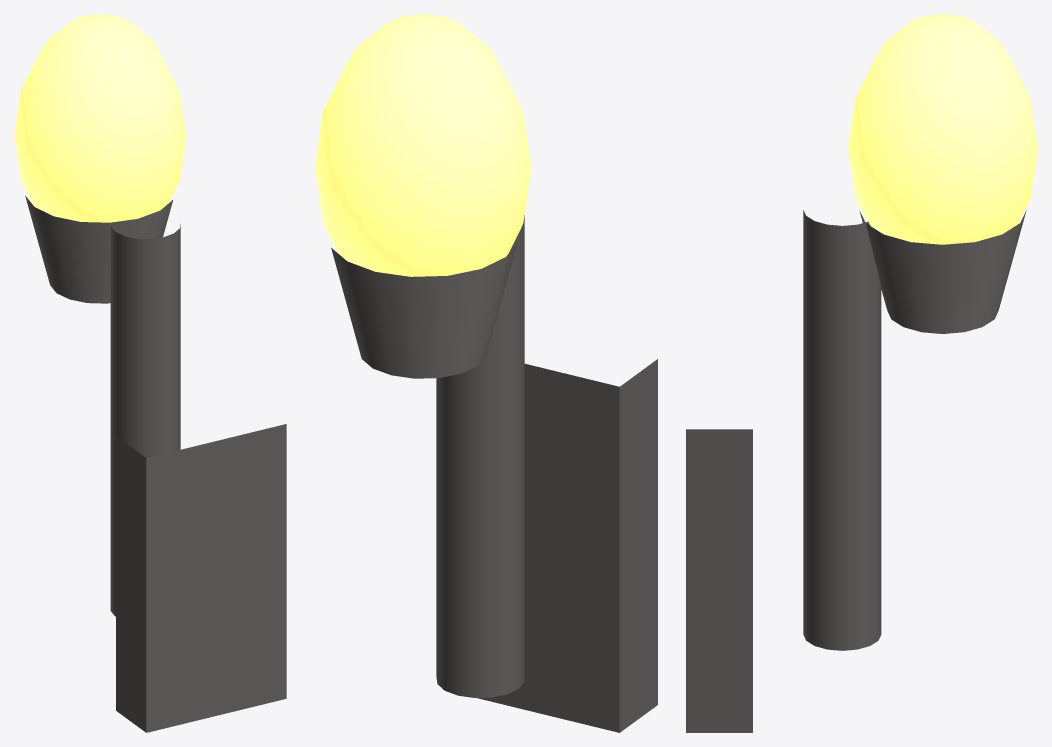
File: model.torch.glb
The picture shows the model from 3 angles, left to right: view 1: azimuth 30°, elevation 25°; view 2: azimuth 150°, elevation 25°; view 3: azimuth 270°, elevation 25°; orthographic projection. The views are drawn at different scales.
Parts seen in each view (by area): view 1: torch; view 2: torch; view 3: torch.
Part boxes in pixels (<box>): torch: <box>14,14,286,732</box>; torch: <box>315,14,657,732</box>; torch: <box>686,14,1037,732</box>.
Size of the model in its own units: 0.1699 by 0.6675 by 0.3152.
